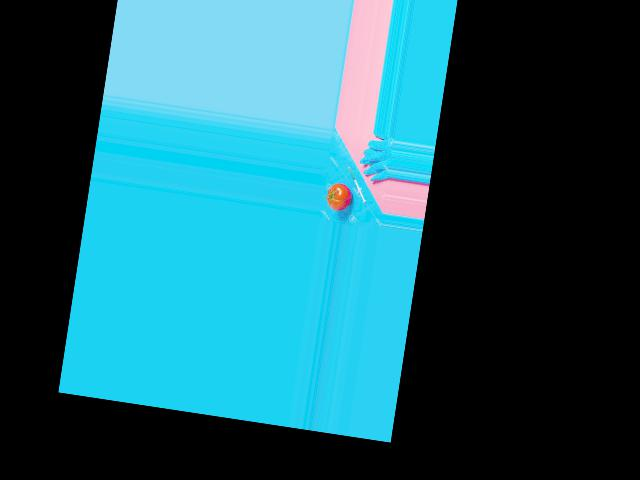tomato: (325, 181, 354, 211)
